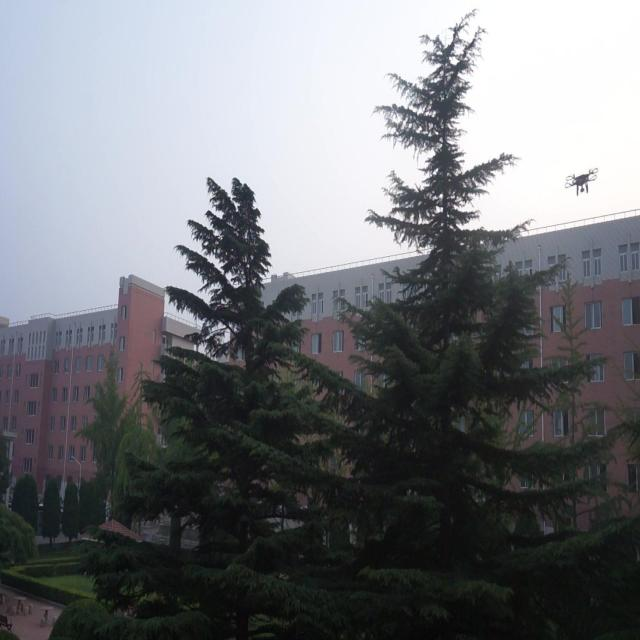UAV: (564, 168, 598, 196)
